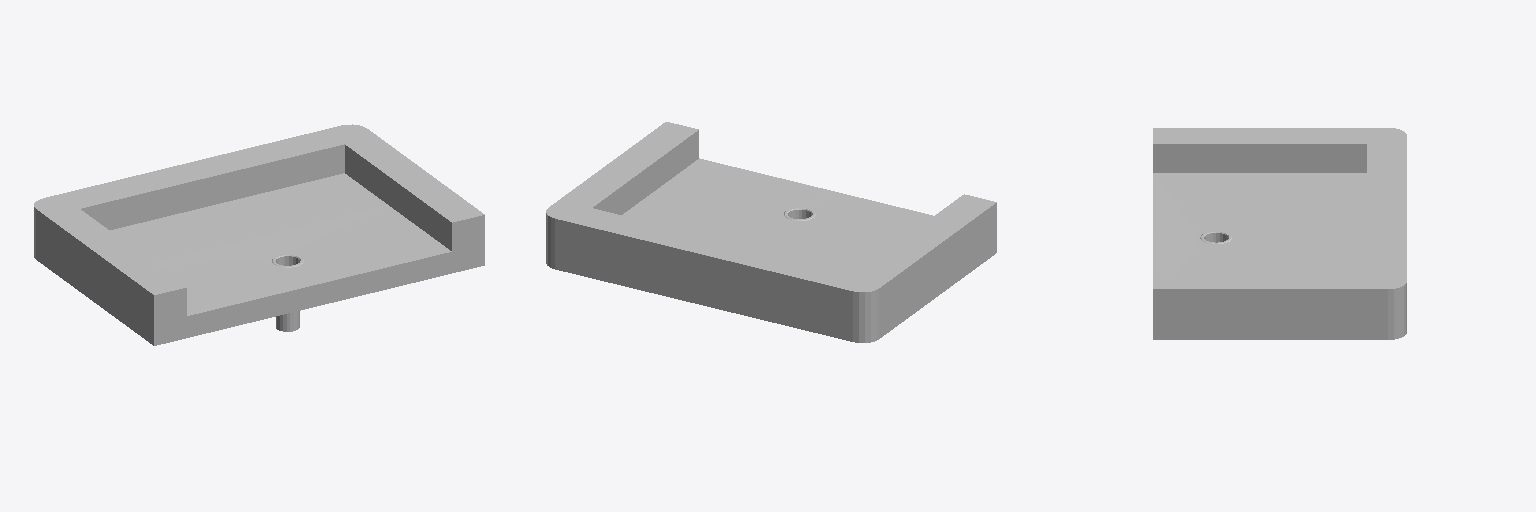
Rendered from end_2x3.obj.
3 renders of one model, left to right at view 1: azimuth 30°, elevation 25°; view 2: azimuth 150°, elevation 25°; view 3: azimuth 270°, elevation 25°, orthographic.
Visible parts, largest first — view 1: modelPanel2ViewSelectedSet end4, end4; view 2: modelPanel2ViewSelectedSet end4, end4; view 3: modelPanel2ViewSelectedSet end4, end4.
Part boxes in pixels (bbox=[...]): modelPanel2ViewSelectedSet end4: bbox=[34, 124, 484, 345]; end4: bbox=[60, 130, 344, 229]; modelPanel2ViewSelectedSet end4: bbox=[546, 122, 996, 341]; end4: bbox=[546, 208, 870, 342]; modelPanel2ViewSelectedSet end4: bbox=[1153, 128, 1406, 339]; end4: bbox=[1367, 144, 1406, 337].
Size of the model in its own units: 3 by 0.8234 by 2.